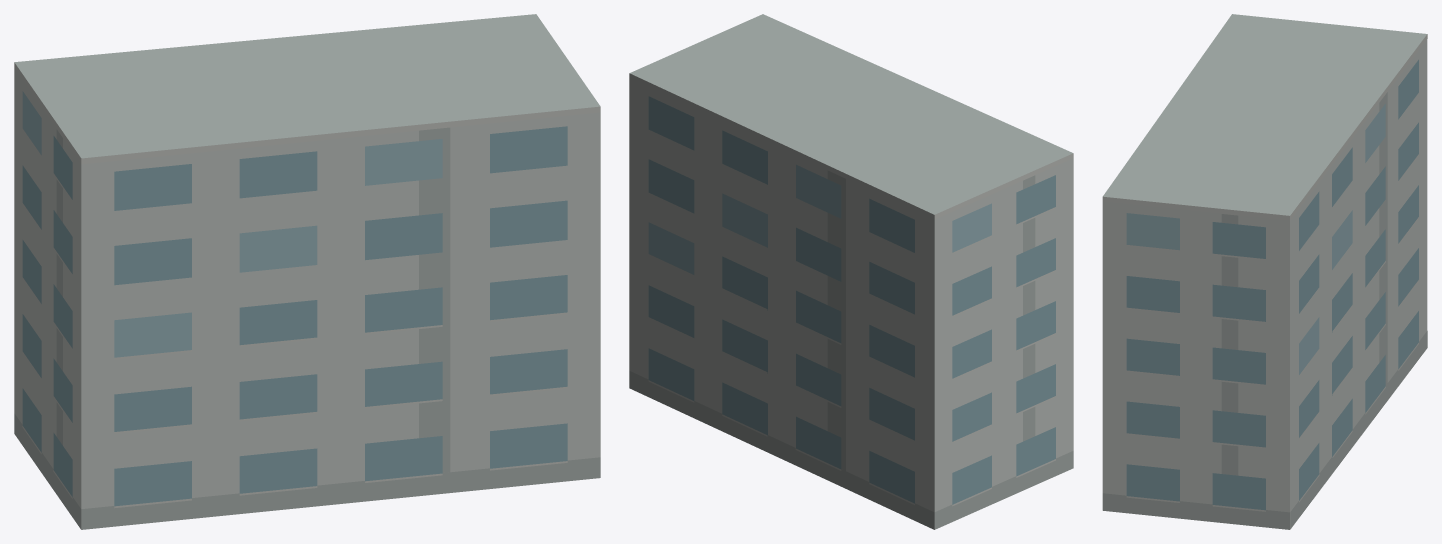
The model's file is residential-2093aa6d-781e-4af8-b779-880d725bddad.glb.
The picture shows the model from 3 angles, left to right: view 1: azimuth 30°, elevation 25°; view 2: azimuth 150°, elevation 25°; view 3: azimuth 270°, elevation 25°; orthographic projection. The views are drawn at different scales.
Visible parts, largest first — view 1: residential-2093aa6d-781e-4af8-b779-880d725bddad.tmp; view 2: residential-2093aa6d-781e-4af8-b779-880d725bddad.tmp; view 3: residential-2093aa6d-781e-4af8-b779-880d725bddad.tmp.
Boxes of the visible parts, x1=… form: residential-2093aa6d-781e-4af8-b779-880d725bddad.tmp: x1=14, y1=14, x2=600, y2=529; residential-2093aa6d-781e-4af8-b779-880d725bddad.tmp: x1=629, y1=14, x2=1073, y2=529; residential-2093aa6d-781e-4af8-b779-880d725bddad.tmp: x1=1102, y1=14, x2=1427, y2=529.
Bounding box in the file's own units: 21.03 × 15.25 × 14.3.
